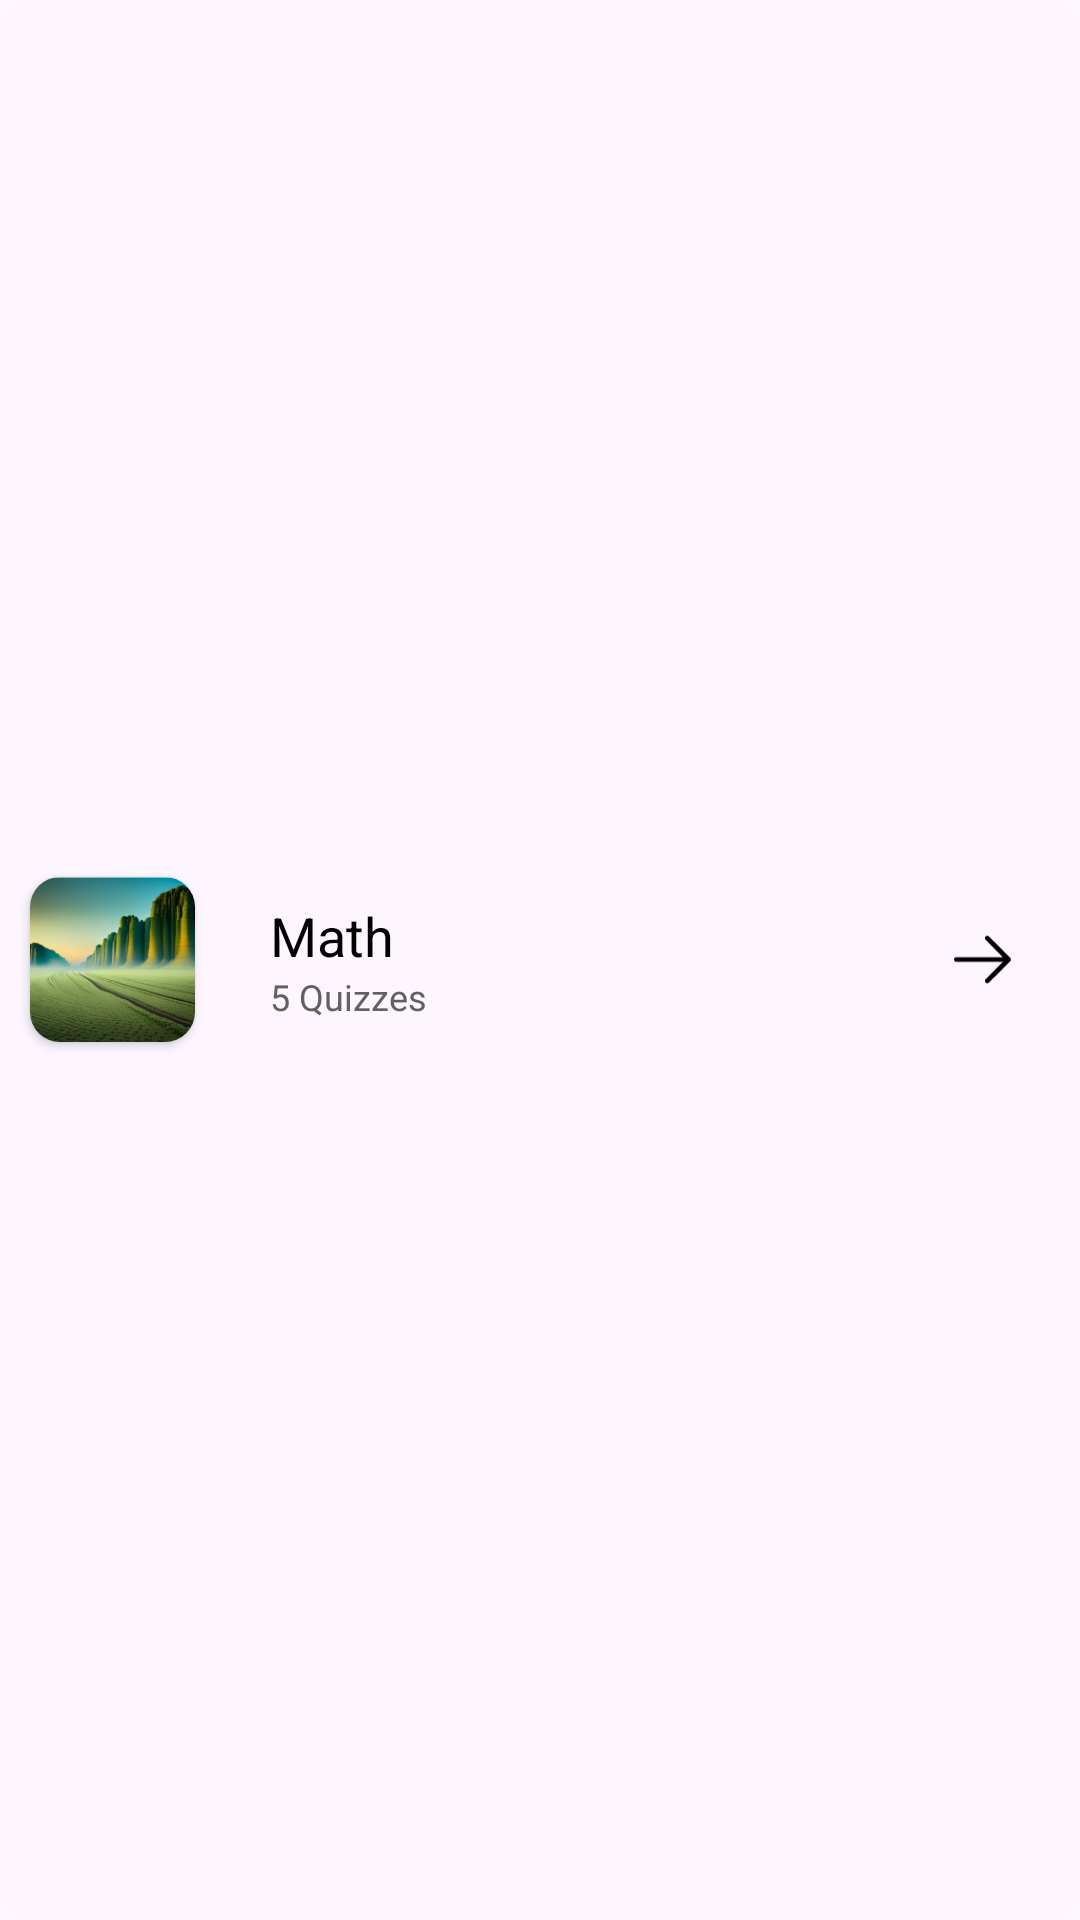

Where icons sit on this 1080 × 1920 app screen, as (x1, y1, x2, y2):
arrow: (954, 935, 1011, 984)
